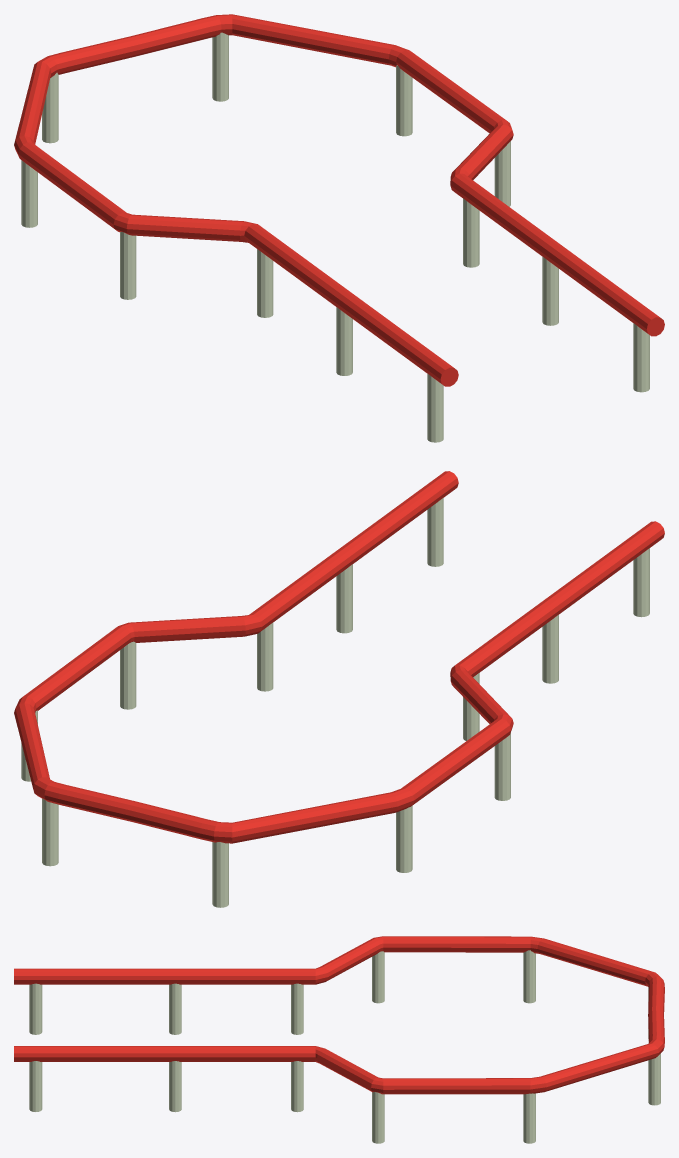
Rendered from ReactorLedge.fbx.
3 renders of one model, top to bottom at view 1: azimuth 30°, elevation 25°; view 2: azimuth 150°, elevation 25°; view 3: azimuth 270°, elevation 25°, orthographic. The views are drawn at different scales.
Visible parts, largest first — view 1: Reactor Ledge; view 2: Reactor Ledge; view 3: Reactor Ledge.
Part boxes in pixels (x1=…): Reactor Ledge: x1=14, y1=14, x2=664, y2=442; Reactor Ledge: x1=14, y1=471, x2=664, y2=907; Reactor Ledge: x1=14, y1=936, x2=664, y2=1143.
Size of the model in its own units: 1842 by 362 by 3401.
